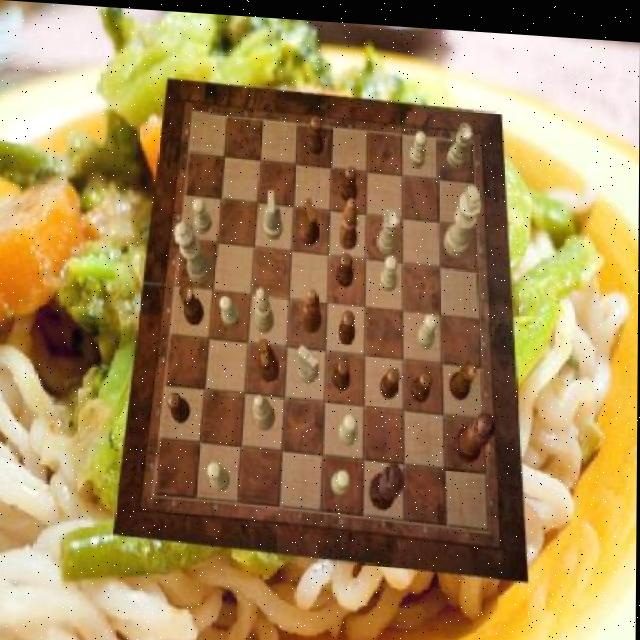bishop: (340, 193, 358, 247), (303, 284, 323, 330)
black-bishop: (371, 458, 407, 508)
black-king: (259, 334, 281, 379), (300, 195, 319, 243)
black-knight: (169, 389, 192, 422), (411, 366, 432, 400), (381, 361, 401, 395), (342, 161, 359, 200), (309, 112, 325, 153), (333, 354, 351, 388), (340, 305, 357, 340), (337, 247, 354, 282)
black-pawn: (454, 402, 497, 459)
black-queen: (450, 355, 478, 396), (180, 282, 205, 323)
black-rook: (255, 284, 275, 331), (255, 392, 278, 429)
white-bishop: (445, 177, 482, 253)
white-king: (265, 186, 285, 236), (298, 340, 320, 379)
white-knight: (417, 307, 438, 342), (193, 195, 213, 230), (410, 125, 428, 163), (208, 460, 231, 489), (380, 250, 398, 286), (221, 293, 241, 325), (339, 409, 357, 442), (333, 465, 352, 492)
white-pawn: (174, 217, 213, 283)
white-queen: (448, 118, 473, 165), (377, 205, 400, 251)
